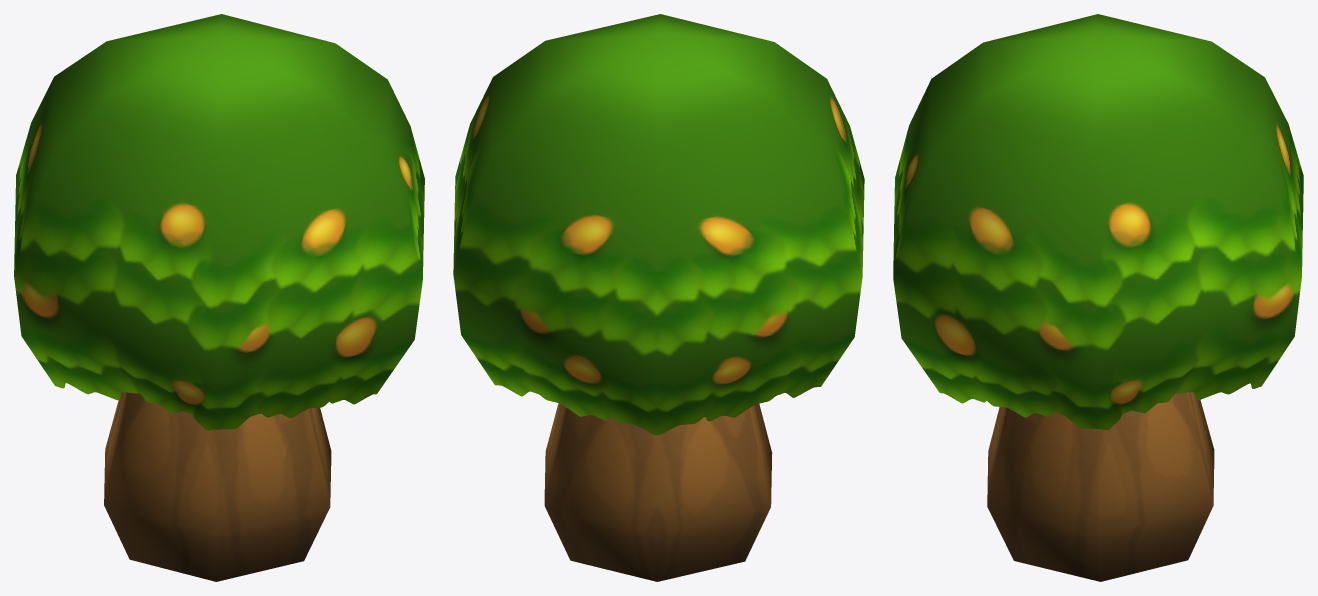
Rendered from Shrub_02.FBX.
The picture shows the model from 3 angles, left to right: view 1: azimuth 30°, elevation 25°; view 2: azimuth 150°, elevation 25°; view 3: azimuth 270°, elevation 25°; orthographic projection.
Parts seen in each view (by area): view 1: Shrub_02; view 2: Shrub_02; view 3: Shrub_02.
Part boxes in pixels (x1,y1,x2,y2): Shrub_02: [14, 14, 424, 581]; Shrub_02: [453, 14, 864, 581]; Shrub_02: [893, 14, 1303, 581].
Bounding box in the file's own units: 1.22 × 1.44 × 1.06.
